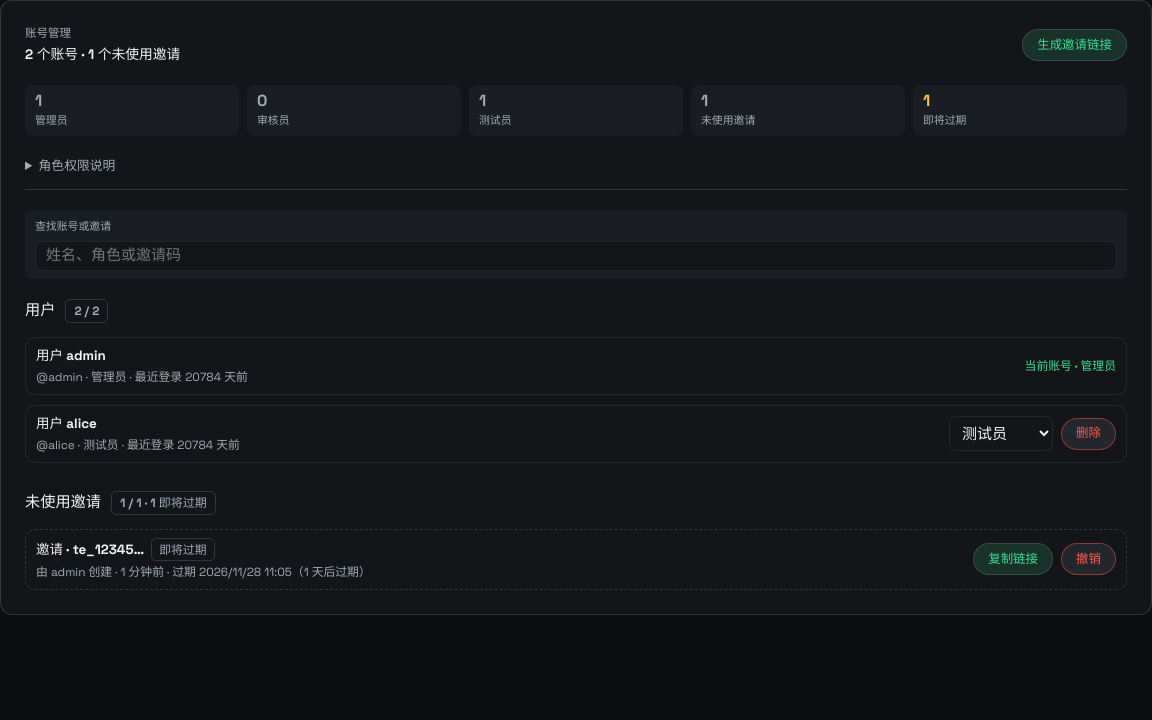
AccountManagement › does not report revoked or already-used invites as newly removed
The width and height of the screenshot is (1152, 720).
Click the button "撤销": (1088, 559) top-left (1061, 543), bottom-right (1116, 575)
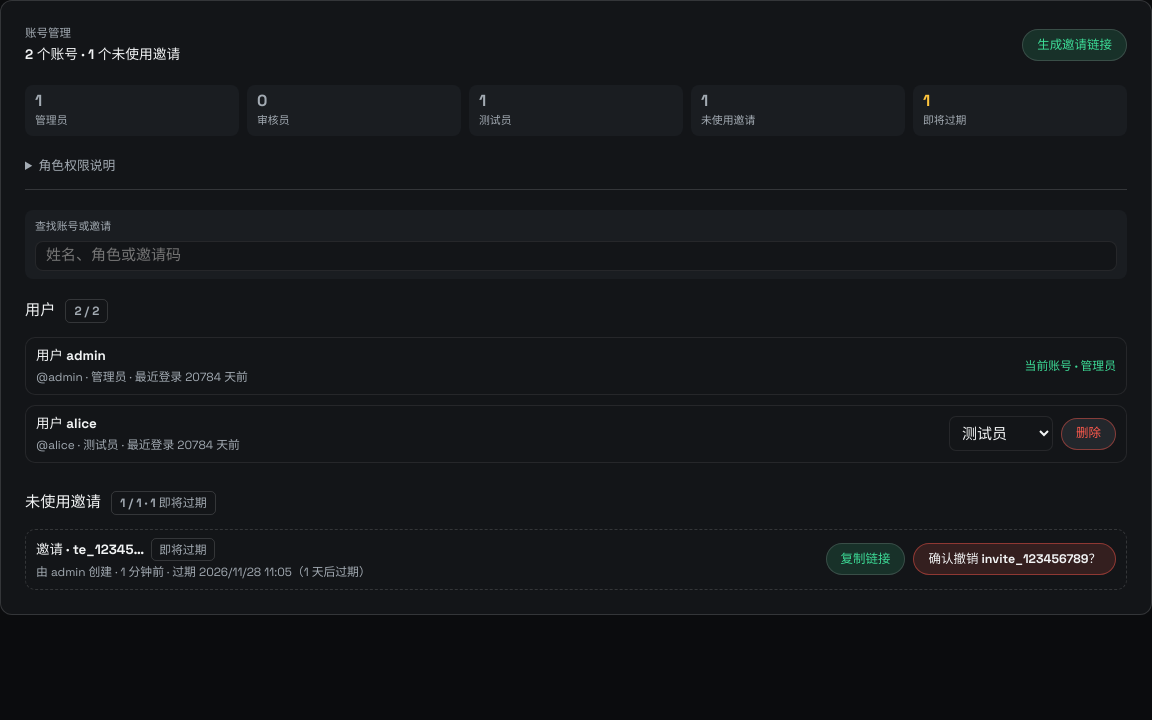
Click the button "确认撤销 invite_123456789？": (1015, 559) top-left (914, 543), bottom-right (1116, 575)
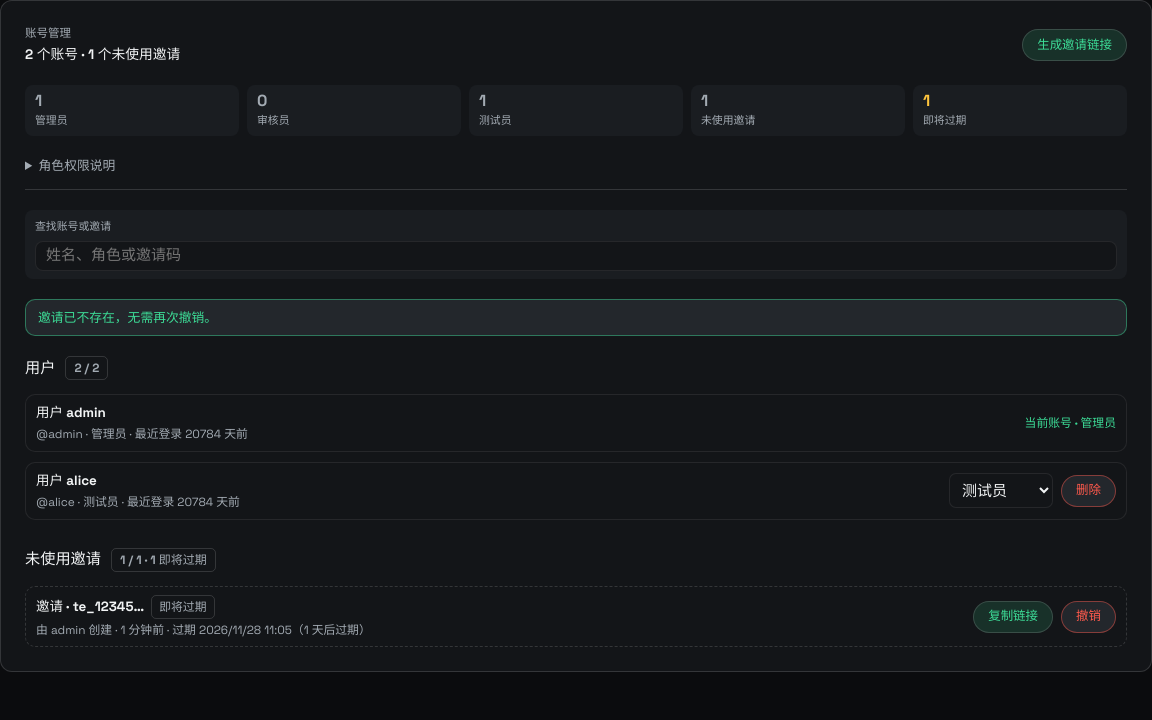
Check: the text "邀请已不存在，无需再次撤销。" is shown, box top-left (25, 299), bottom-right (1127, 336)
